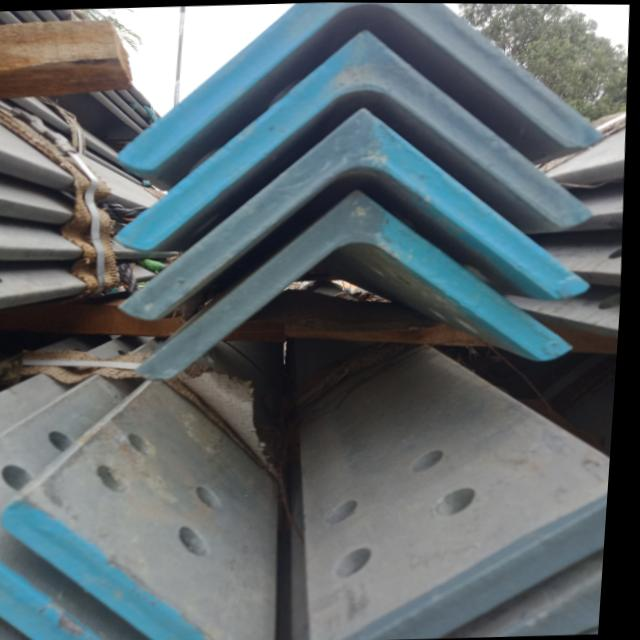metal-angles: (114, 29, 597, 251), (123, 107, 594, 320), (142, 188, 578, 379), (118, 2, 374, 173), (378, 2, 605, 149)
